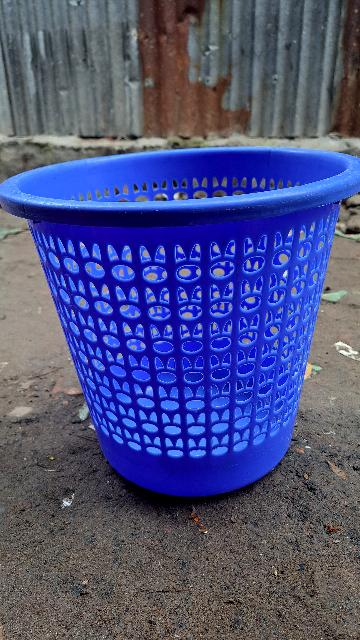hardplastic: (10, 158, 357, 487)
